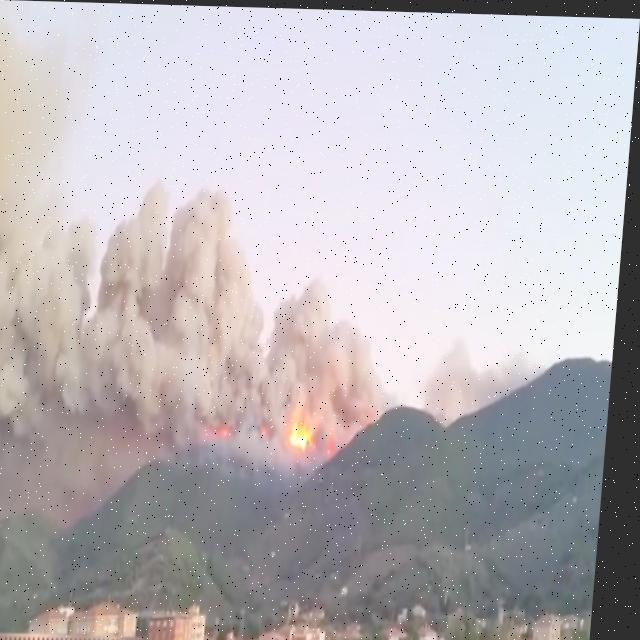Fire: (292, 406, 327, 460)
